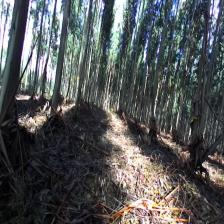trunk: (0, 0, 30, 125), (190, 31, 208, 168), (50, 9, 69, 119), (149, 36, 165, 139)
